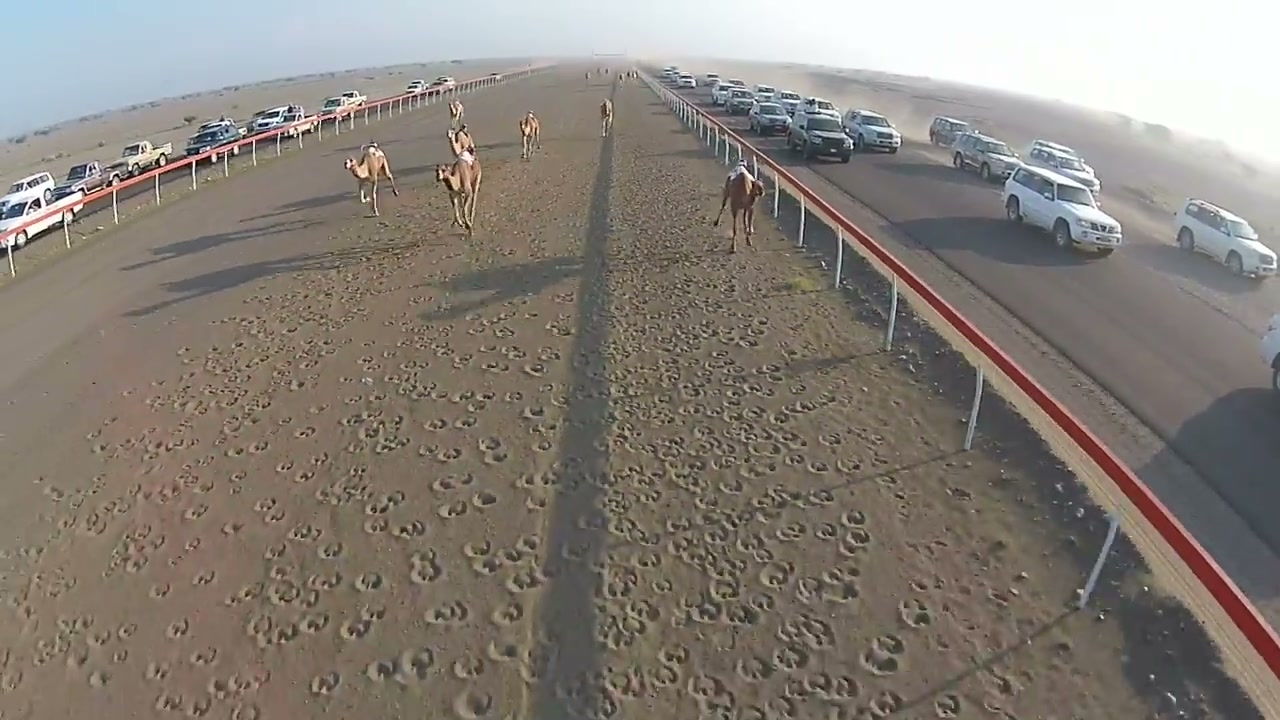animal_footprint: (0, 90, 1166, 719), (593, 209, 986, 719), (608, 354, 931, 716), (156, 670, 268, 718), (135, 534, 217, 585), (33, 629, 127, 666), (555, 672, 623, 719), (597, 601, 651, 651), (366, 647, 436, 685), (828, 690, 906, 719), (776, 613, 834, 650), (541, 546, 598, 579), (516, 641, 558, 684), (862, 634, 905, 675), (980, 666, 1028, 700), (603, 666, 647, 702), (686, 673, 731, 706), (360, 426, 412, 454), (814, 673, 861, 702), (620, 600, 663, 630), (452, 689, 494, 719), (409, 550, 444, 584), (426, 600, 471, 625), (772, 644, 811, 672), (867, 690, 904, 719), (504, 569, 547, 593), (259, 621, 300, 646), (736, 656, 775, 682), (266, 578, 303, 605), (338, 615, 376, 641), (898, 598, 932, 627), (224, 582, 264, 606), (245, 613, 277, 643), (514, 470, 559, 491), (758, 562, 793, 589), (733, 532, 769, 558), (821, 579, 860, 603), (366, 490, 404, 514), (840, 527, 871, 556), (504, 534, 541, 558), (491, 600, 525, 626), (431, 473, 475, 493), (479, 436, 509, 465), (486, 638, 522, 662), (253, 497, 286, 523), (226, 439, 269, 458), (648, 664, 682, 688), (451, 656, 485, 680), (737, 704, 790, 719), (725, 603, 761, 625), (687, 601, 723, 623), (390, 519, 427, 540), (305, 571, 343, 591), (297, 612, 330, 635), (288, 522, 324, 542), (310, 671, 340, 695), (366, 659, 397, 682), (934, 694, 962, 719), (747, 440, 785, 458), (629, 550, 662, 570), (528, 420, 562, 439), (436, 499, 468, 519), (188, 645, 218, 666), (718, 478, 755, 495), (560, 542, 593, 561), (575, 512, 608, 531), (228, 701, 262, 719), (153, 692, 183, 712), (986, 587, 1016, 607), (462, 540, 493, 559), (354, 572, 383, 592), (805, 488, 835, 506), (358, 603, 386, 622), (363, 516, 390, 535), (472, 490, 499, 509), (65, 648, 89, 669), (434, 447, 465, 463), (166, 618, 189, 639), (813, 523, 838, 541), (637, 488, 663, 505), (840, 510, 866, 527), (317, 543, 344, 559), (451, 414, 478, 430), (521, 405, 547, 421), (836, 457, 862, 473), (525, 494, 548, 512), (481, 359, 510, 373), (191, 569, 216, 585), (88, 670, 110, 688), (116, 622, 138, 640), (306, 451, 329, 468), (184, 503, 207, 520), (149, 582, 171, 599), (806, 460, 832, 474), (423, 418, 450, 431), (947, 487, 972, 501), (522, 363, 547, 377), (817, 432, 843, 445), (531, 438, 555, 452), (292, 469, 314, 483), (908, 578, 929, 592), (287, 377, 307, 391), (293, 426, 316, 438), (276, 459, 294, 473), (276, 415, 293, 425)
